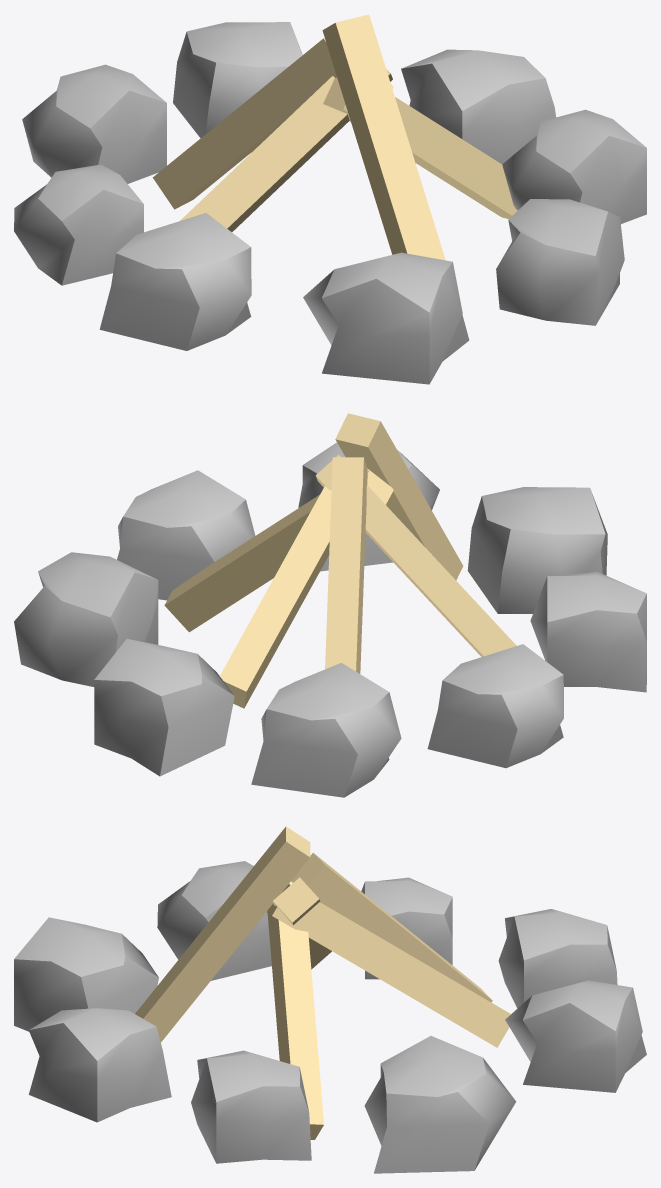
File: CampFire.fbx
3 renders of one model, top to bottom at view 1: azimuth 30°, elevation 25°; view 2: azimuth 150°, elevation 25°; view 3: azimuth 270°, elevation 25°, orthographic. The views are drawn at different scales.
Visible parts, largest first — view 1: pCube3, pCube4, pCube2, pCube6, pCube9, pCube7, pCube10, pCube5, pCube8, pCube12, pCube11, pCube13; view 2: pCube6, pCube8, pCube7, pCube3, pCube5, pCube4, pCube10, pCube14, pCube12, pCube13, pCube11, pCube9 (+1 smaller); view 3: pCube7, pCube2, pCube8, pCube10, pCube3, pCube9, pCube14, pCube6, pCube13, pCube4, pCube12, pCube5 (+1 smaller).
Boxes of the visible parts, x1,y1,x2,y2 form: pCube3: (303,252,469,384); pCube4: (99,213,251,350); pCube2: (496,199,624,325); pCube6: (22,64,166,183); pCube9: (322,14,445,260); pCube7: (401,49,556,163); pCube10: (502,109,646,223); pCube5: (14,164,143,285); pCube8: (173,22,302,138); pCube12: (152,38,336,209); pCube11: (180,69,392,231); pCube13: (323,77,517,218); pCube6: (251,663,401,797); pCube8: (94,639,234,776); pCube7: (14,552,158,686); pCube3: (467,487,607,613); pCube5: (427,644,563,768); pCube4: (530,571,646,692); pCube10: (117,470,255,600); pCube14: (219,469,368,708); pCube12: (325,457,367,673); pCube13: (164,468,393,632); pCube11: (315,454,516,656); pCube9: (335,413,463,580); pCube7: (364,1036,516,1173); pCube2: (28,1008,171,1122); pCube8: (505,980,646,1092); pCube10: (191,1050,311,1163); pCube3: (14,917,158,1031); pCube9: (135,826,310,1042); pCube14: (267,884,510,1047); pCube6: (498,909,617,1008); pCube13: (267,882,323,1139); pCube4: (157,861,271,980); pCube12: (291,852,492,1002); pCube5: (361,877,452,979).
Size of the model in its own units: 2.48 by 1.1 by 2.73.
